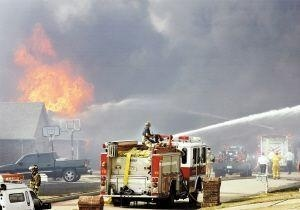fire: (14, 29, 94, 114)
